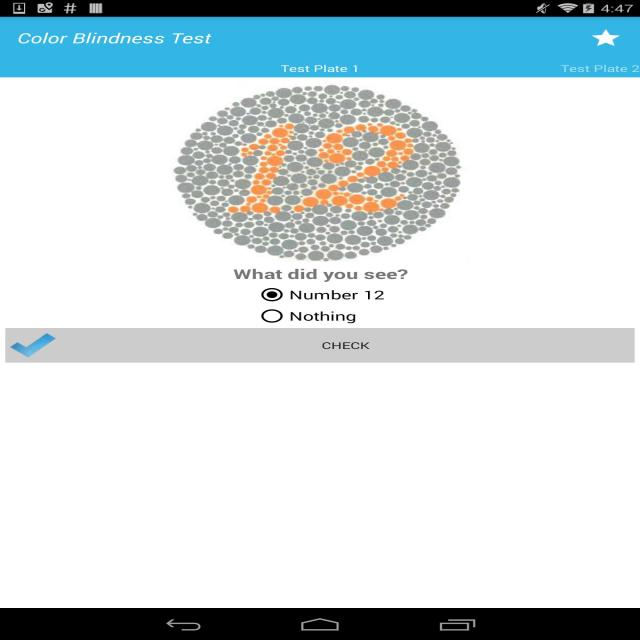button: (7, 326, 636, 364), (247, 52, 397, 78), (252, 308, 409, 328), (252, 286, 406, 304), (556, 52, 640, 76), (583, 26, 630, 53)
heading: (16, 31, 218, 50)
image: (164, 84, 467, 260)
label: (288, 288, 390, 304), (284, 308, 365, 326), (558, 59, 640, 76)
text: (221, 267, 419, 283)
